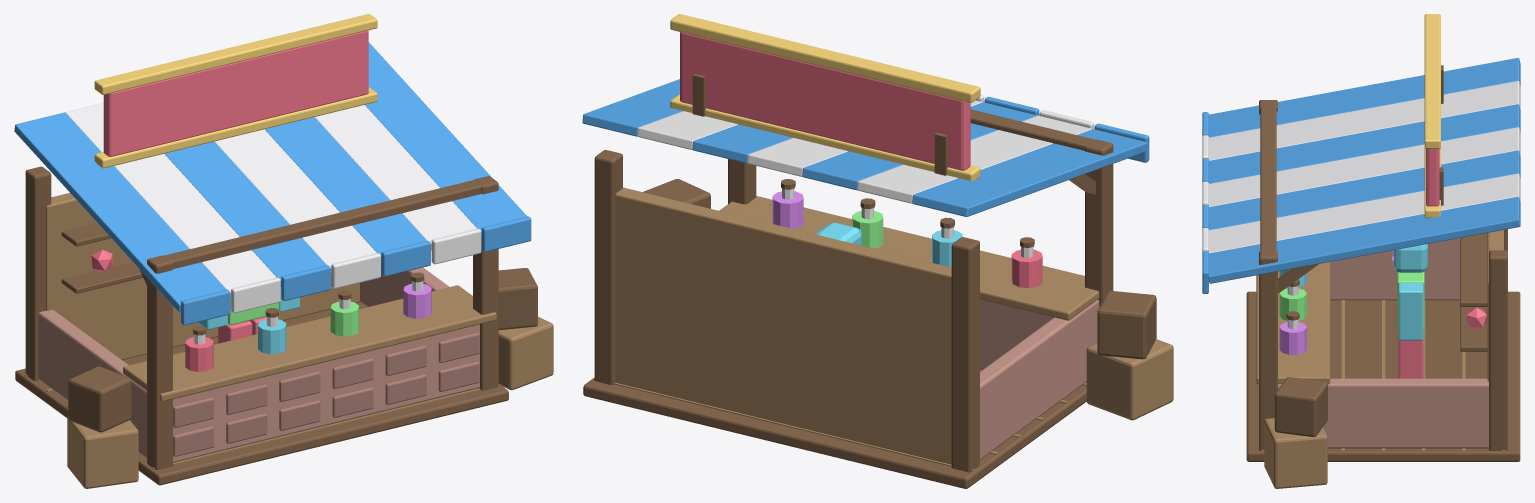
Rendered from puesto_tienda.obj.
3 renders of one model, left to right at view 1: azimuth 30°, elevation 25°; view 2: azimuth 150°, elevation 25°; view 3: azimuth 270°, elevation 25°, orthographic. The views are drawn at different scales.
Parts seen in each view (by area): view 1: Puesto, Cartel, Vendedor; view 2: Puesto, Cartel, Vendedor; view 3: Puesto, Vendedor, Cartel.
Boxes of the visible parts, x1,y1,x2,y2 form: Puesto: [14, 14, 553, 488]; Cartel: [103, 30, 368, 156]; Vendedor: [197, 287, 299, 343]; Puesto: [582, 14, 1173, 488]; Cartel: [680, 32, 970, 170]; Vendedor: [816, 222, 861, 245]; Puesto: [1202, 14, 1520, 488]; Vendedor: [1392, 244, 1427, 378]; Cartel: [1426, 149, 1439, 206].
Size of the model in its own units: 9.36 by 6.14 by 5.81.
Materials: 1 (1 with a texture image).
